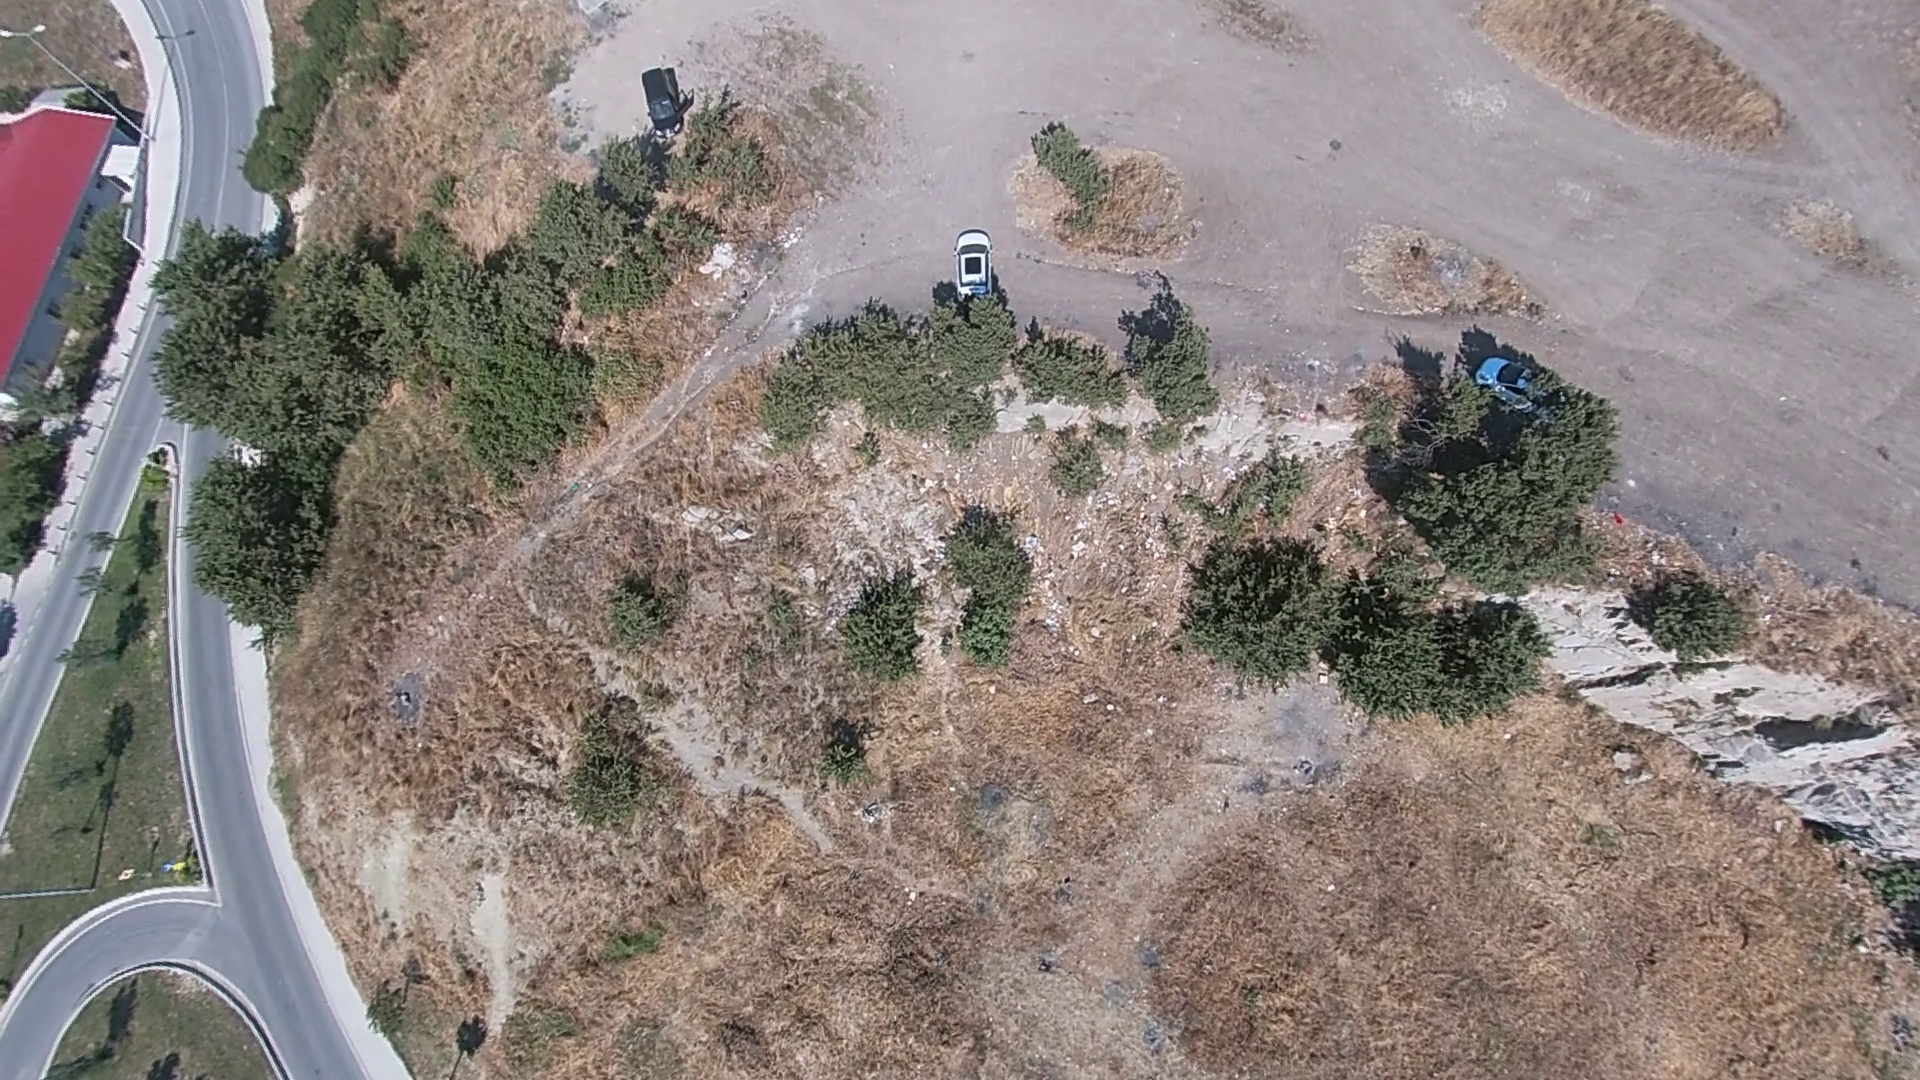araba: (1476, 347, 1556, 409), (948, 225, 998, 305), (641, 61, 688, 129)
